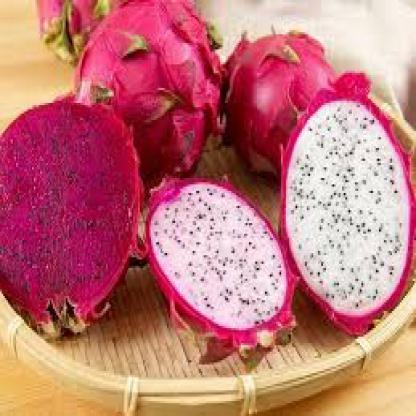dragon-fruit: (277, 89, 416, 327), (0, 100, 142, 317), (71, 0, 224, 201), (143, 176, 295, 344), (214, 33, 339, 206), (35, 0, 127, 68)
